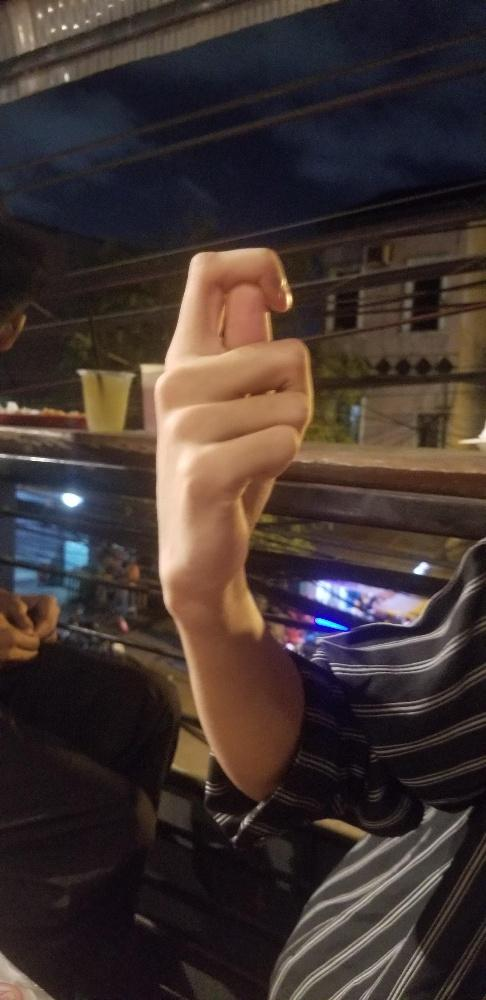t: (153, 245, 316, 593)
